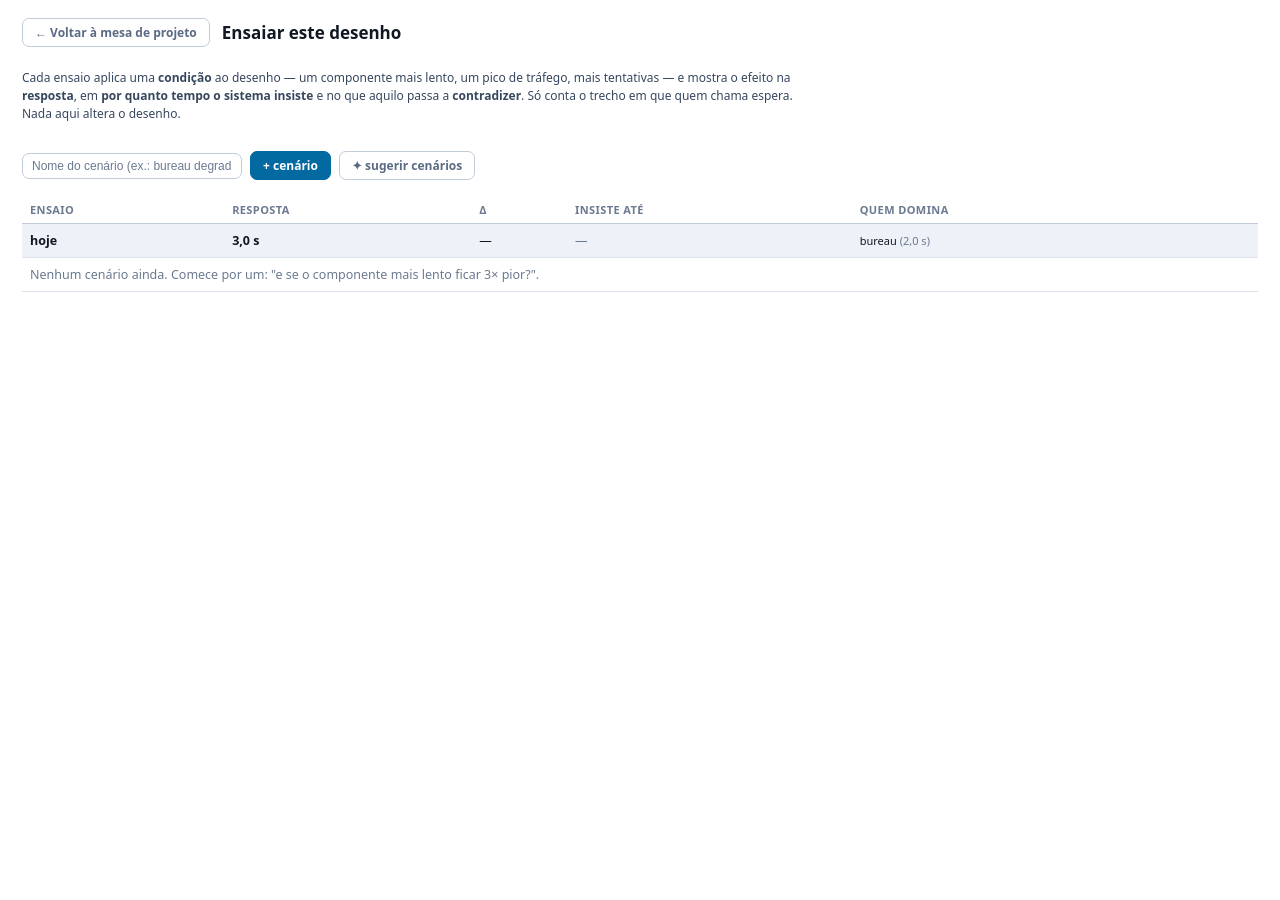
Test: EnsaiosScreen — a espera da sugestão › o botão respira com a mesma classe do resto do produto
This screenshot has width=1280, height=900.
Click the button with test id "sugerir-cenarios" at (407, 166), box [339,151,475,180]
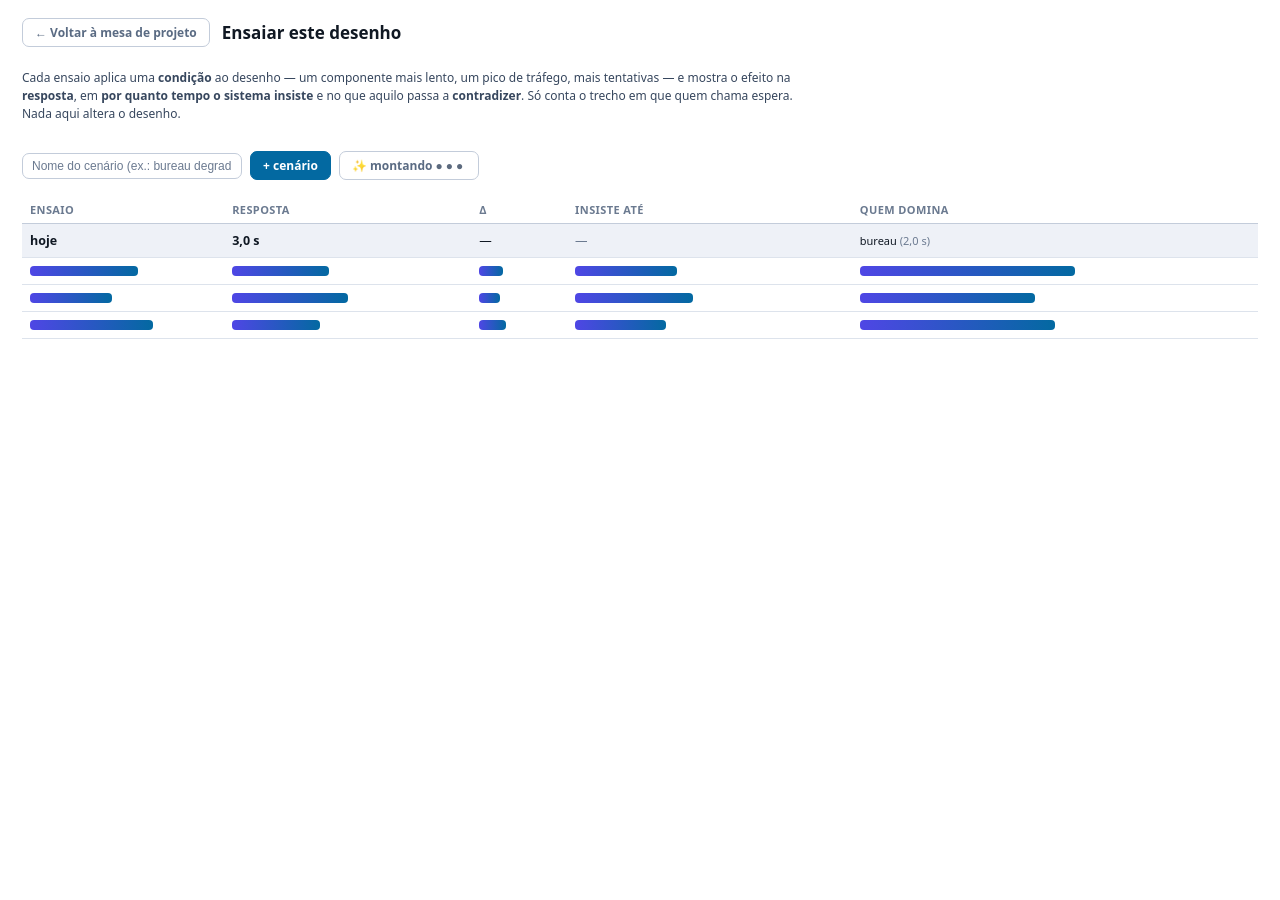
Now the text "●●●" is shown, box [436,157,466,174]
Now the button with test id "sugerir-cenarios" shows "montando", box [339,151,479,180]
